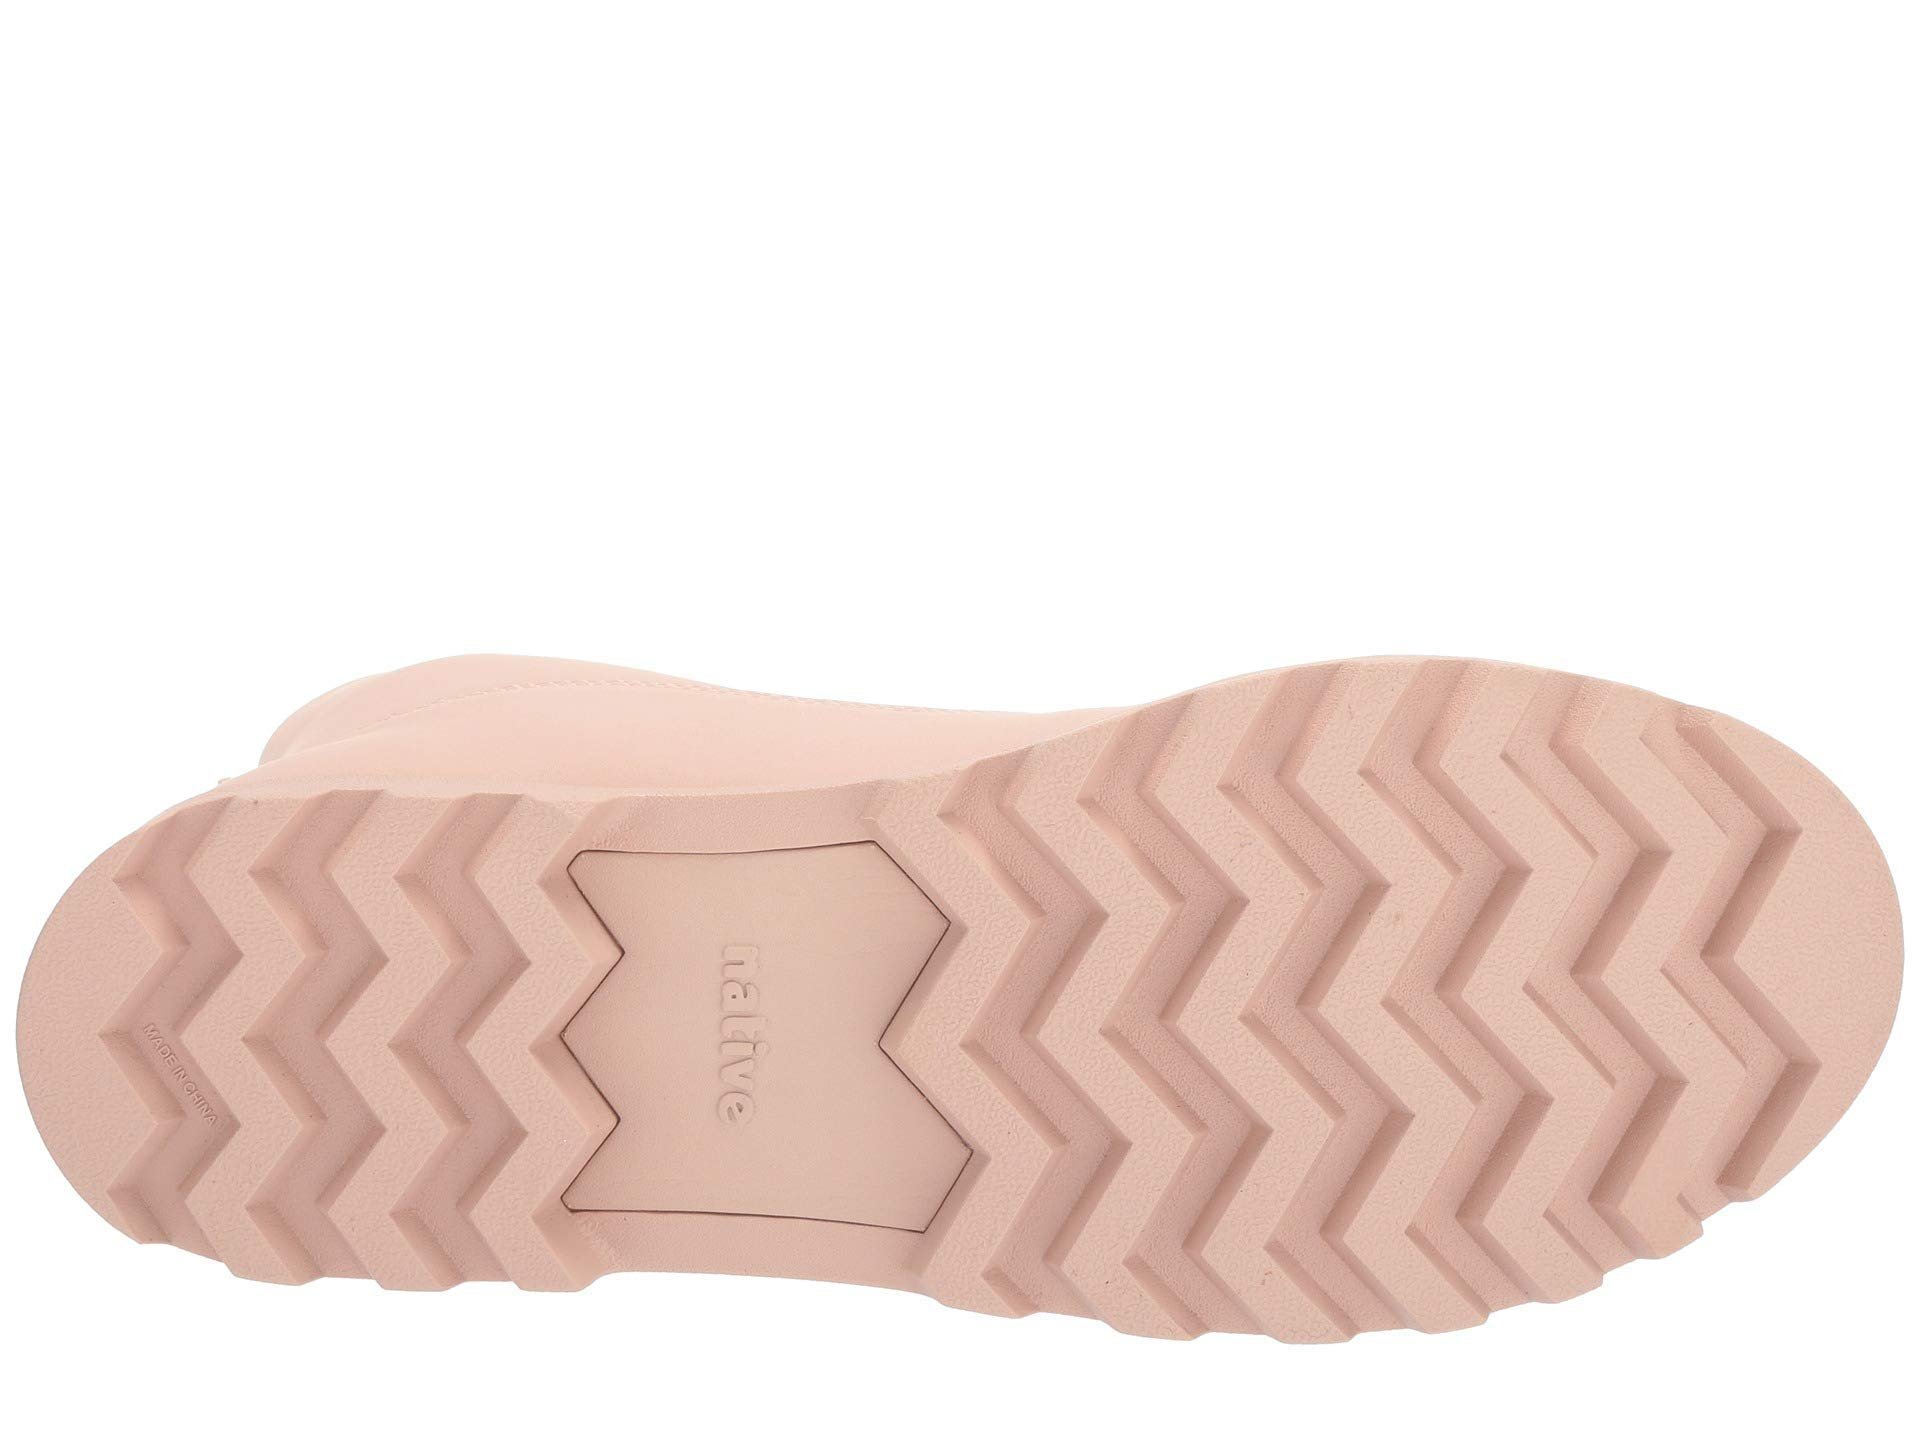chevron: (1147, 743, 1767, 1201), (184, 886, 559, 1234)
text: (689, 915, 794, 1172)
